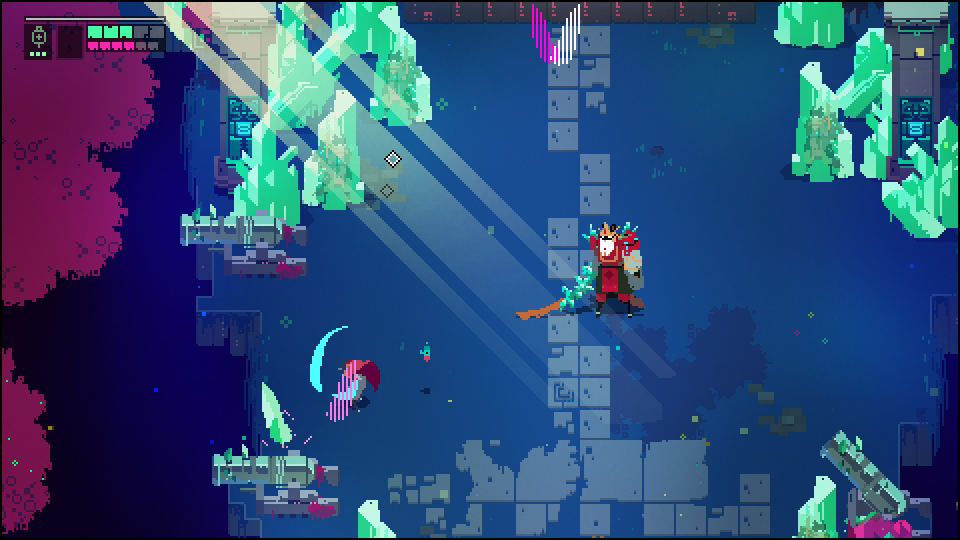hanged_crys: (522, 6, 582, 68), (254, 387, 290, 445)
hanged_man: (555, 217, 652, 321)
player: (310, 347, 384, 407)
